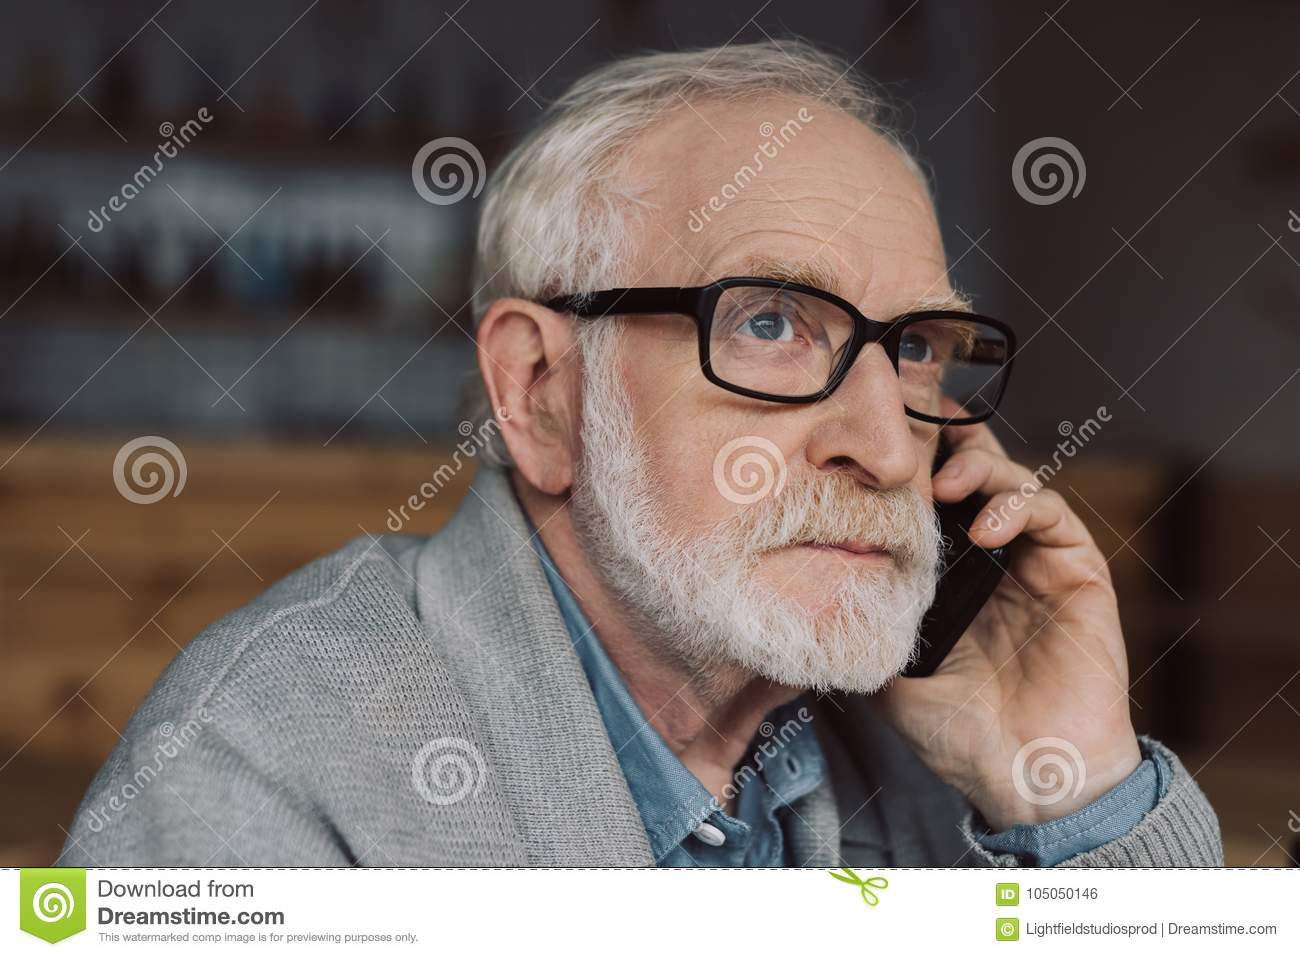talk: (663, 230, 1144, 800)
